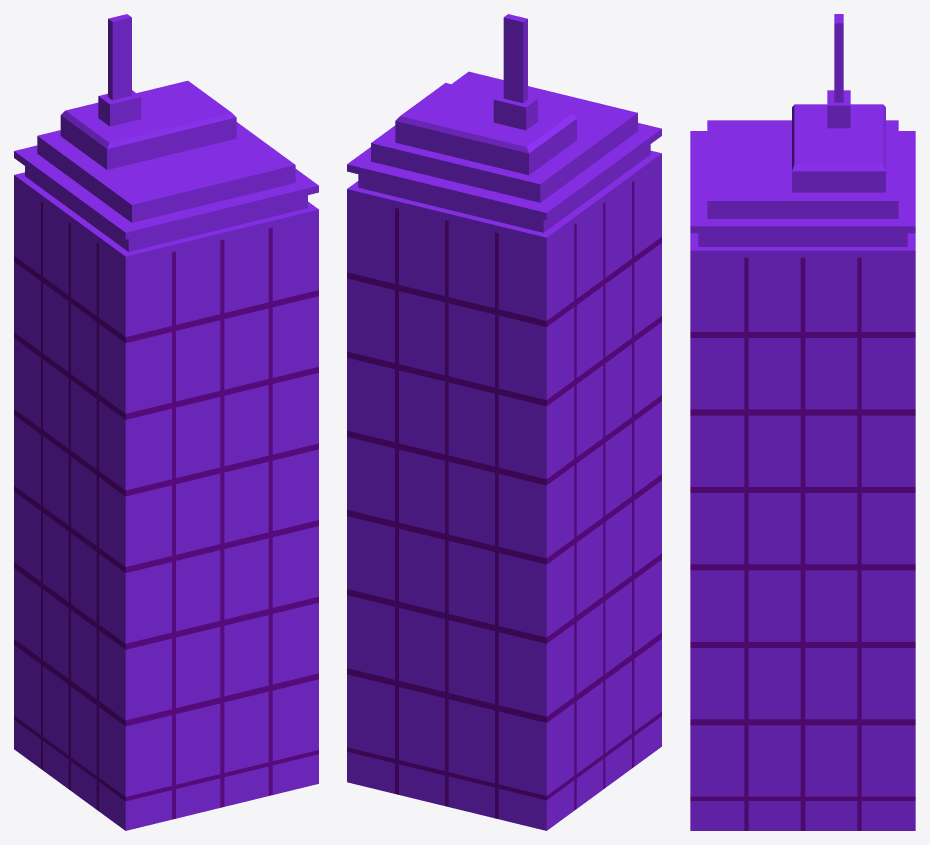
File: Building3.fbx
3 renders of one model, left to right at view 1: azimuth 30°, elevation 25°; view 2: azimuth 150°, elevation 25°; view 3: azimuth 270°, elevation 25°, orthographic. The views are drawn at different scales.
Parts seen in each view (by area): view 1: Building3; view 2: Building3; view 3: Building3.
Part boxes in pixels (x1,y1,x2,y2): Building3: (14, 14, 318, 830); Building3: (347, 14, 661, 830); Building3: (690, 14, 915, 830).
Size of the model in its own units: 34.58 by 127 by 34.58.
